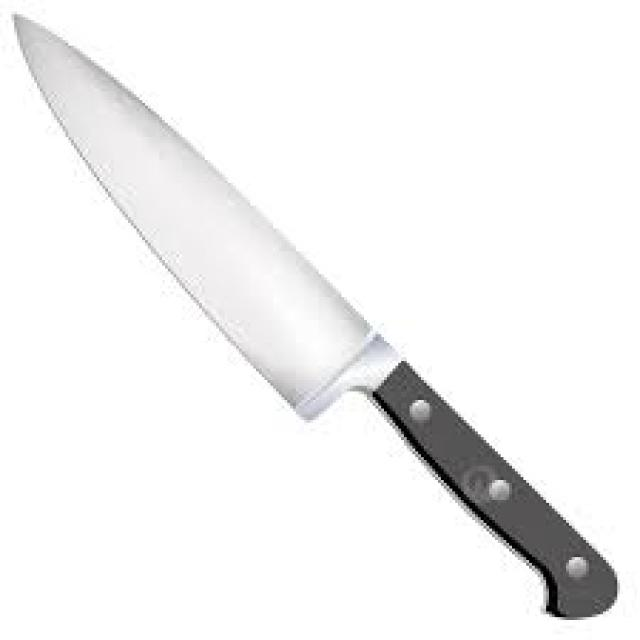Knife: (9, 12, 617, 617)
